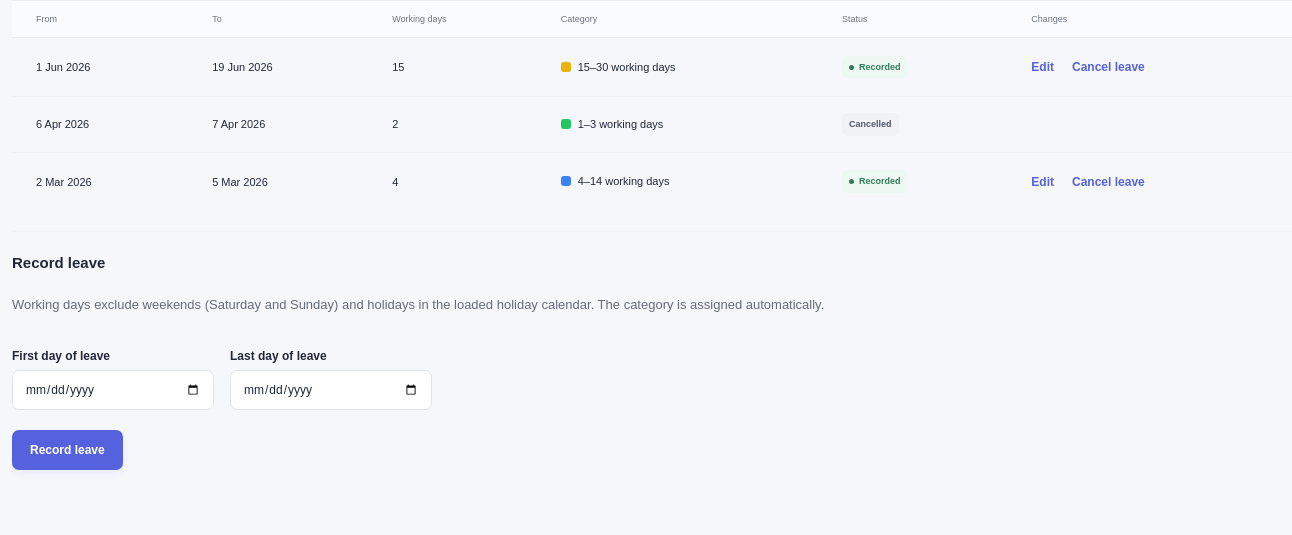
Scenario: LeavePanel (Story 5.2) › keeps the dates after a refusal and shows the error as an alert
Type "2026-03-05" into the date field labelled "First day of leave".
click(113, 390); type("2026-03-05")  # box [12,370,214,410]
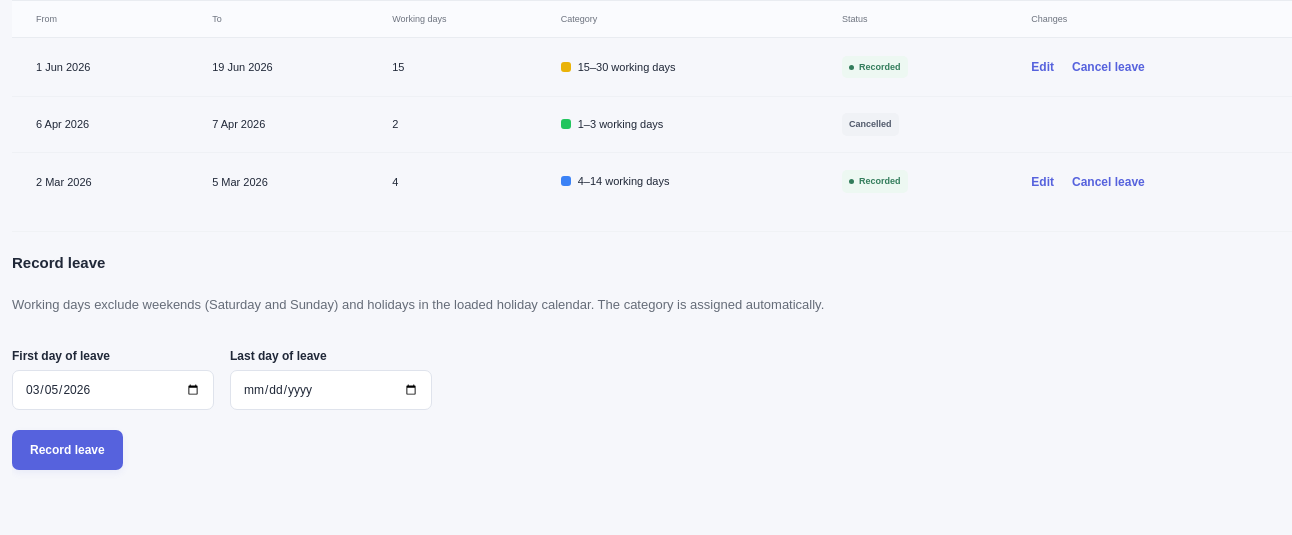
Type "2026-03-10" into the date field labelled "Last day of leave".
click(331, 390); type("2026-03-10")  # box [230,370,432,410]
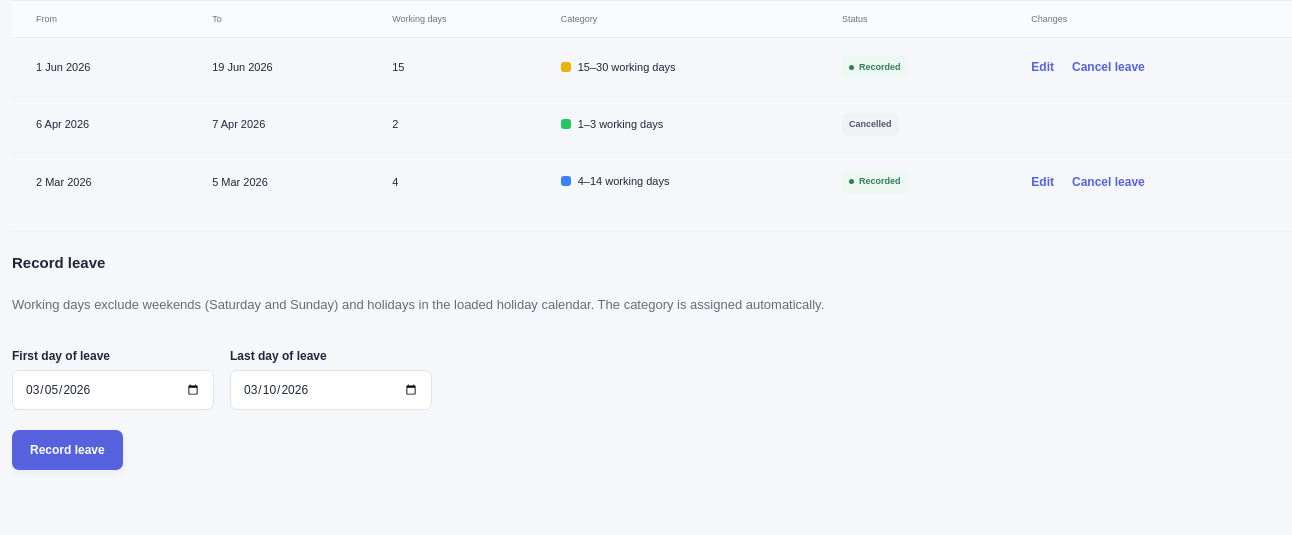
Click the button "Record leave".
click(67, 450)  # box [12,430,123,470]
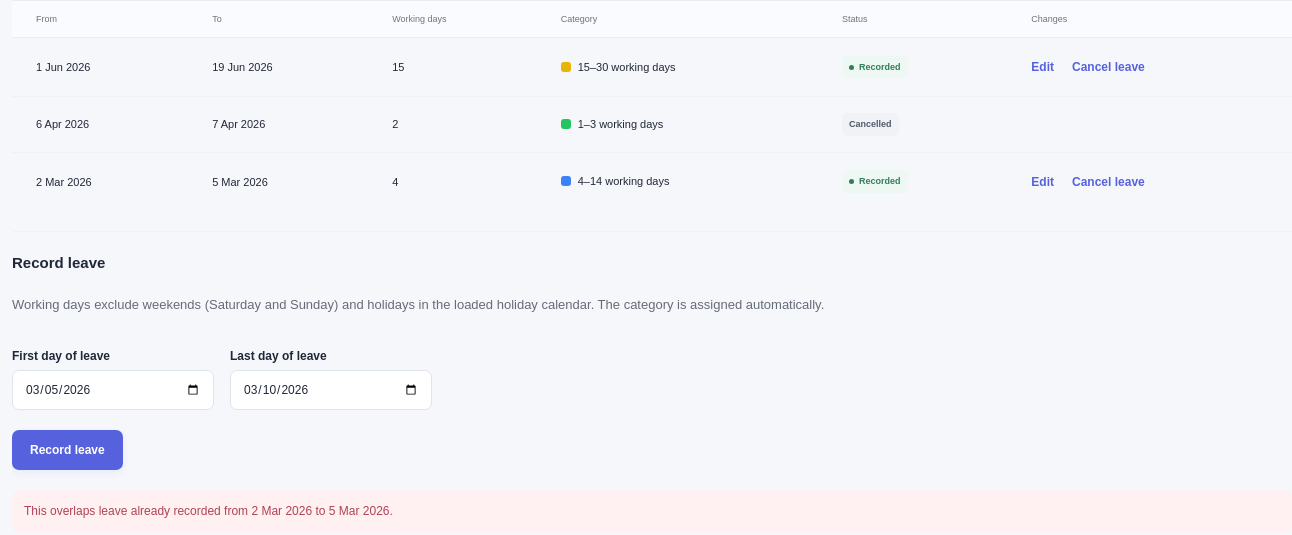
Expected: the message reads "This overlaps leave already recorded from 2 Mar 2026 to 5 Mar 2026.", [24,504,393,518]
